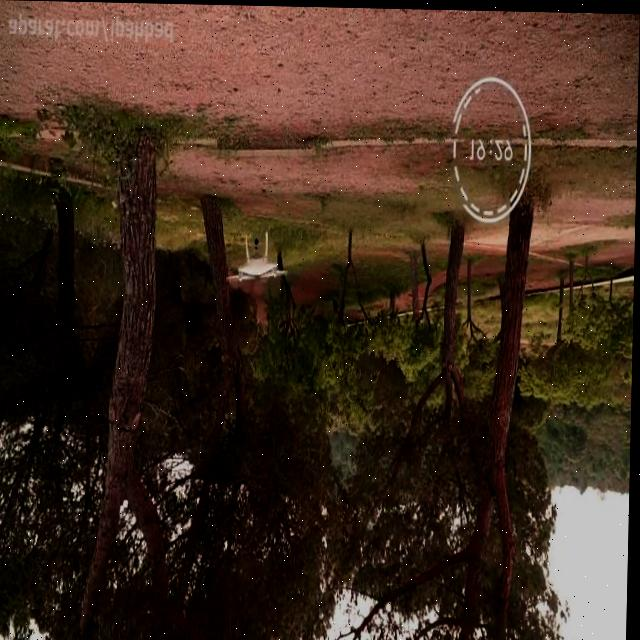drone: (228, 229, 292, 285)
